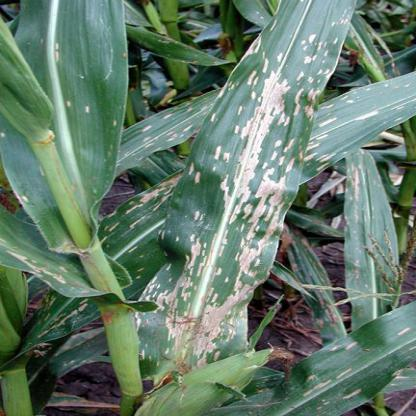Corn Gray leaf spot: (138, 1, 364, 396), (44, 7, 144, 218), (77, 80, 241, 180), (275, 300, 414, 416), (332, 141, 397, 344), (300, 70, 414, 182)
